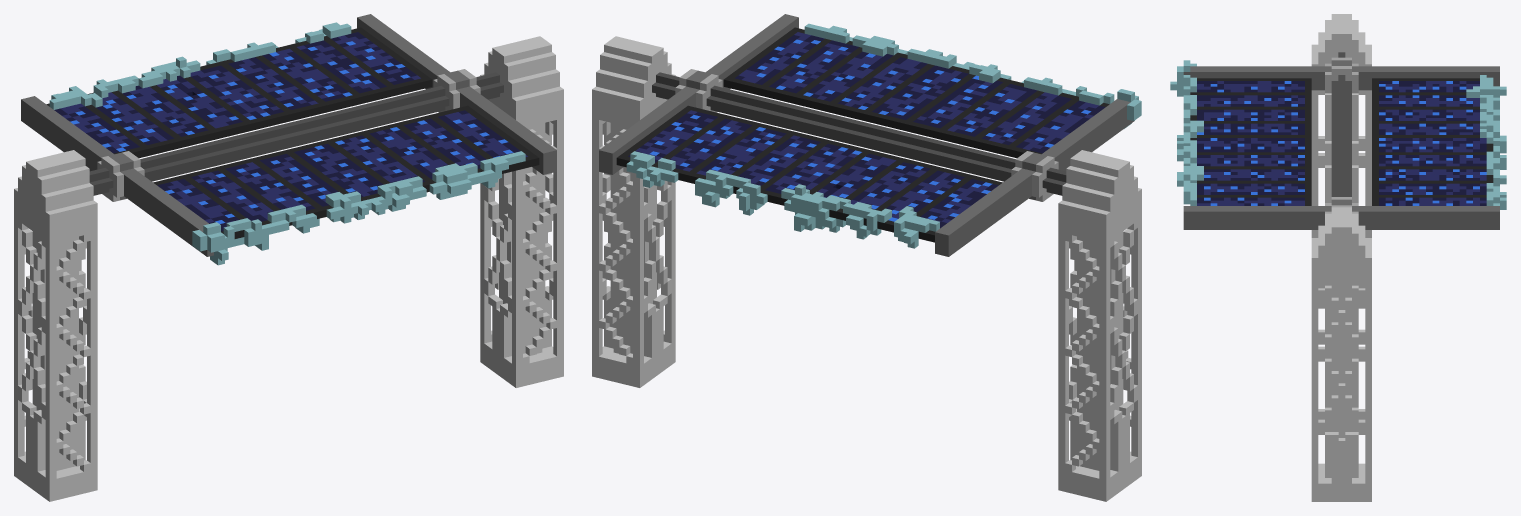
The model's file is IceySolarPanels.FBX.
3 views of the same model, side by side, from view 1: azimuth 30°, elevation 25°; view 2: azimuth 150°, elevation 25°; view 3: azimuth 270°, elevation 25° (orthographic). The views are drawn at different scales.
Visible parts, largest first — view 1: IceySolarPanels-A, IceySolarPanels-B; view 2: IceySolarPanels-A, IceySolarPanels-B; view 3: IceySolarPanels-A, IceySolarPanels-B.
Boxes of the visible parts, left/top/right/bottom form: IceySolarPanels-A: left=21, top=14, right=556, bottom=265; IceySolarPanels-B: left=14, top=36, right=563, bottom=501; IceySolarPanels-A: left=599, top=14, right=1141, bottom=256; IceySolarPanels-B: left=592, top=36, right=1141, bottom=501; IceySolarPanels-A: left=1170, top=52, right=1506, bottom=229; IceySolarPanels-B: left=1311, top=14, right=1371, bottom=501.
Bounding box in the file's own units: 75 × 45 × 50.
